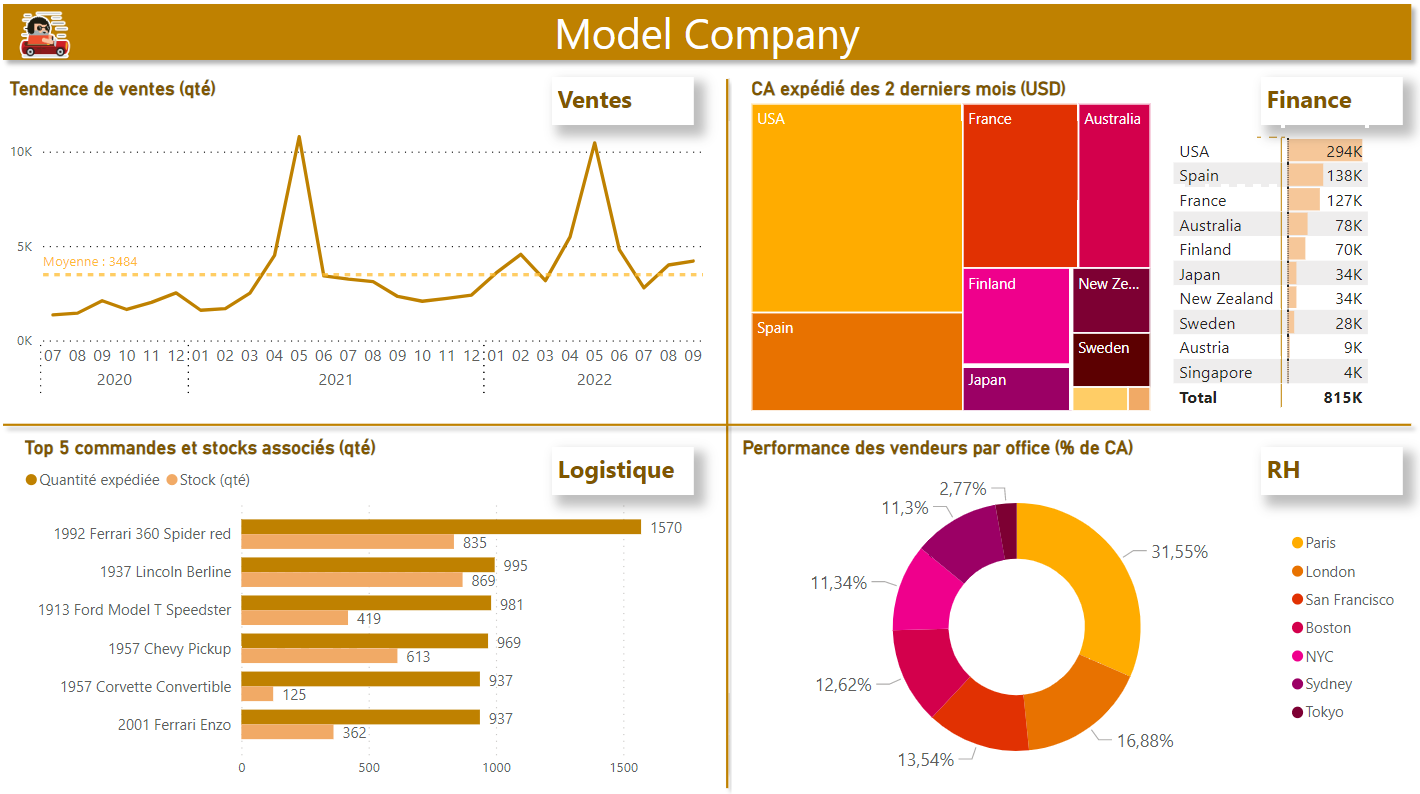

The dashboard page shown, as its layout file describes it:
{"tool":"powerbi","page":{"name":"Synthèse","canvas":[1280,720],"ordinal":0},"visuals":[{"type":"lineChart","title":"Tendance de ventes (qté)","fields":{"Y":["Sum(Requête2.quantityOrdered)"],"Category":["Datum.Annee Hierarchy.Annee","Datum.Annee Hierarchy.Mois"]},"box":[9.9,74.5,630.9,294.7],"z":0},{"type":"donutChart","title":"Performance des vendeurs par office (% de CA)","fields":{"Y":["Sum(_Nb vendeurs et CA 2022 par office.CA_par_office)"],"Category":["_Nb vendeurs et CA 2022 par office.city"]},"box":[666.1,395.5,602.9,322.7],"z":1000},{"type":"clusteredBarChart","title":"Top 5 commandes et stocks associés (qté) ","fields":{"Category":["Stock_detail.productName"],"Y":["quantityOrdered.Quantité expédié","Stock_detail.Stock (qté)"]},"box":[23.3,395.5,616.7,314.5],"z":2000},{"type":"treemap","title":"CA expédié des 2 derniers mois (USD)","fields":{"Values":["Sum(shippedTurnover_Last2Month.turnoverShipped)"],"Group":["shippedTurnover_Last2Month.country"]},"box":[674.3,74.2,366.7,303.5],"z":3000},{"type":"pivotTable","fields":{"Values":["Sum(shippedTurnover_Last2Month.CA expédié)"],"Rows":["shippedTurnover_Last2Month.Pays"]},"box":[1052,96.1,200.5,284.3],"z":4000},{"type":"shape","box":[648.1,67.5,12.8,652.8],"z":5000},{"type":"shape","box":[0,0,1278.8,67.8],"z":6000},{"type":"shape","box":[0,377,1278.8,17.5],"z":7000},{"type":"textbox","box":[1135.7,74.5,127,43.1],"z":8000},{"type":"textbox","box":[1135.7,406.1,127,43.1],"z":9000},{"type":"textbox","box":[500.4,74.5,126.8,43.1],"z":10000},{"type":"textbox","box":[500.4,406.1,126.8,43.1],"z":11000},{"type":"image","box":[9.6,0,72.8,72.8],"z":12000}]}

Visuals, with their boxes in screenshot pixels (x1, y1, x2, y2), scaled from the page's 1280x720 canvas onto the 1420x794 screenshot:
"Tendance de ventes (qté)" lineChart: <bbox>11, 82, 711, 407</bbox>
"Performance des vendeurs par office (% de CA)" donutChart: <bbox>739, 436, 1408, 792</bbox>
"Top 5 commandes et stocks associés (qté) " clusteredBarChart: <bbox>26, 436, 710, 783</bbox>
"CA expédié des 2 derniers mois (USD)" treemap: <bbox>748, 82, 1155, 417</bbox>
pivotTable - Sum(shippedTurnover_Last2Month.CA expédié) x shippedTurnover_Last2Month.Pays: <bbox>1167, 106, 1389, 419</bbox>
shape: <bbox>719, 74, 733, 793</bbox>
shape: <bbox>0, 0, 1419, 75</bbox>
shape: <bbox>0, 416, 1419, 435</bbox>
textbox: <bbox>1260, 82, 1401, 130</bbox>
textbox: <bbox>1260, 448, 1401, 495</bbox>
textbox: <bbox>555, 82, 696, 130</bbox>
textbox: <bbox>555, 448, 696, 495</bbox>
image: <bbox>11, 0, 91, 80</bbox>
